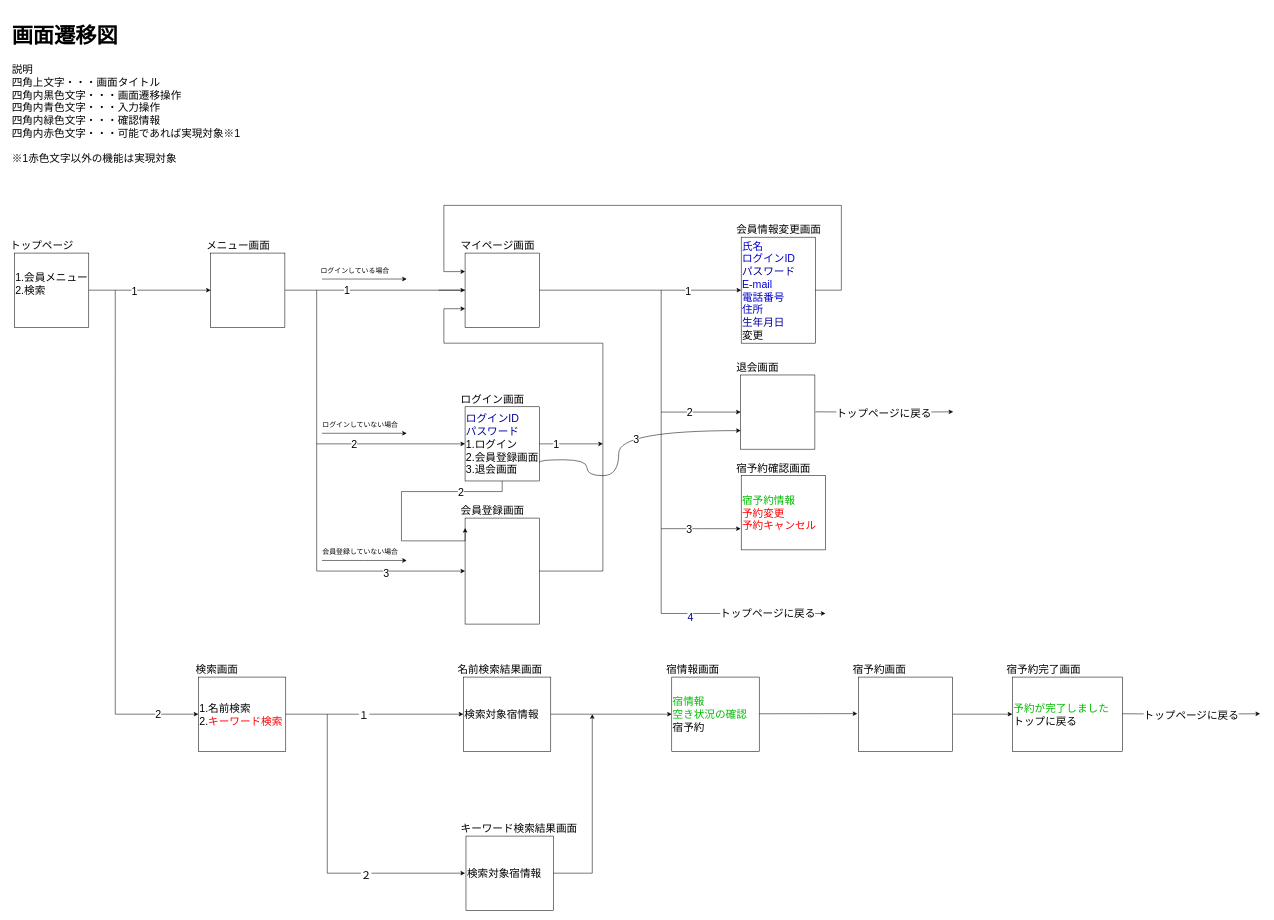
This 1274x920 diagram has some shape labels left out. The shapes that lost their labels are listed below. From the top down, each one's box as (x1, y1, x2, y2) in pixels, then its label:
(210, 253, 285, 327): 1.マイページ 2.ログイン 3.会員登録
(465, 253, 539, 327): 会員情報 1.会員情報変更 2.退会 3.宿予約確認 4.ログアウト
(740, 374, 815, 449): 氏名 ログインID パスワード 退会
(465, 518, 539, 624): 氏名 ログインID パスワード E-mail 電話番号 住所 生年月日 登録
(858, 677, 953, 751): 予約選択 予約
